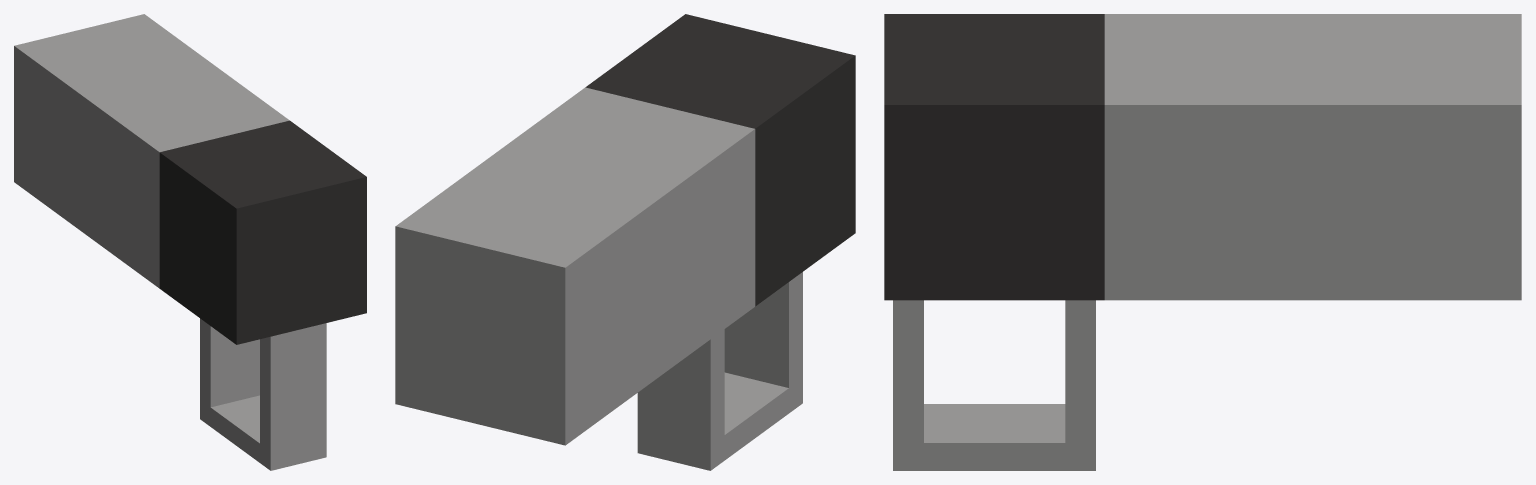
Rendered from Underbarrel_GL_RU.FBX.
The picture shows the model from 3 angles, left to right: view 1: azimuth 30°, elevation 25°; view 2: azimuth 150°, elevation 25°; view 3: azimuth 270°, elevation 25°; orthographic projection. The views are drawn at different scales.
Parts seen in each view (by area): view 1: UnderBarrel_GrenadeLauncher_Russian; view 2: UnderBarrel_GrenadeLauncher_Russian; view 3: UnderBarrel_GrenadeLauncher_Russian.
Part boxes in pixels (x1=…): UnderBarrel_GrenadeLauncher_Russian: x1=14, y1=14, x2=366, y2=470; UnderBarrel_GrenadeLauncher_Russian: x1=395, y1=14, x2=855, y2=470; UnderBarrel_GrenadeLauncher_Russian: x1=884, y1=14, x2=1521, y2=470.
Size of the model in its own units: 10.75 by 31.78 by 21.57.
